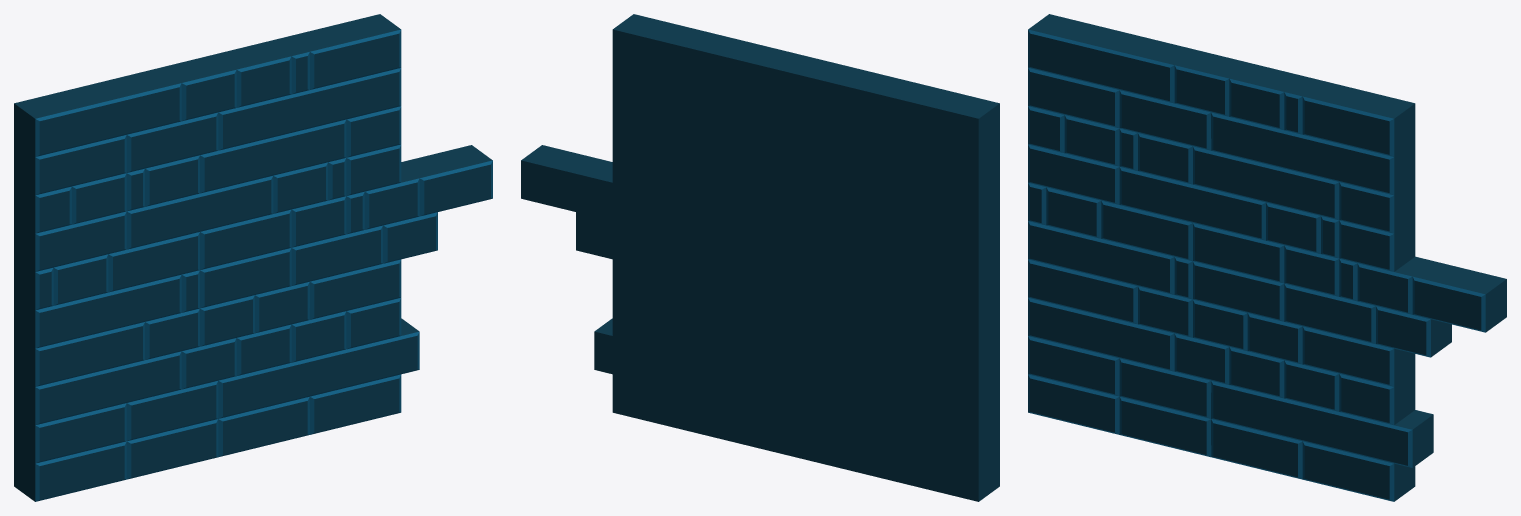
File: wall_type_03.fbx
The picture shows the model from 3 angles, left to right: view 1: azimuth 30°, elevation 25°; view 2: azimuth 150°, elevation 25°; view 3: azimuth 330°, elevation 25°; orthographic projection.
Parts seen in each view (by area): view 1: wall_type_03; view 2: wall_type_03; view 3: wall_type_03.
Part boxes in pixels (x1,y1,x2,y2): wall_type_03: [14, 14, 492, 501]; wall_type_03: [521, 14, 999, 501]; wall_type_03: [1028, 14, 1506, 501].
Bounding box in the file's own units: 250 × 200 × 21.2.
